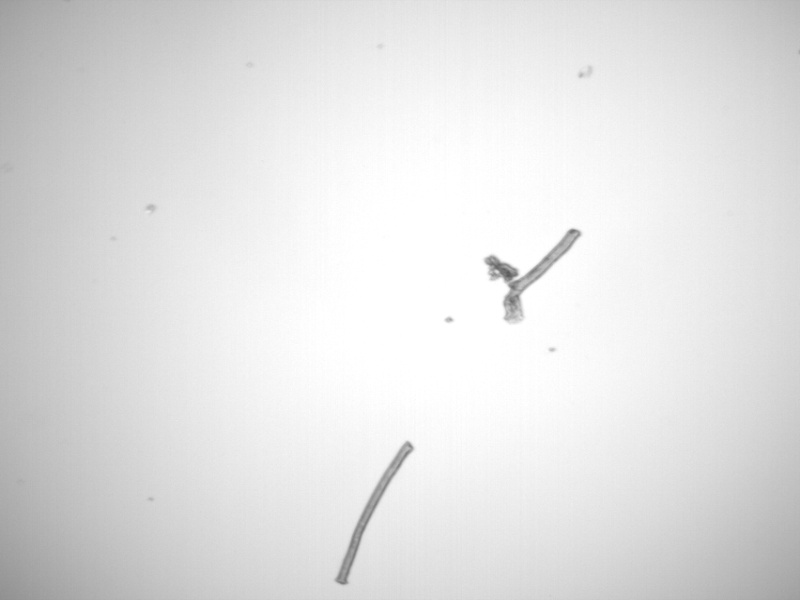fiber: (332, 440, 415, 588), (484, 225, 584, 325)
